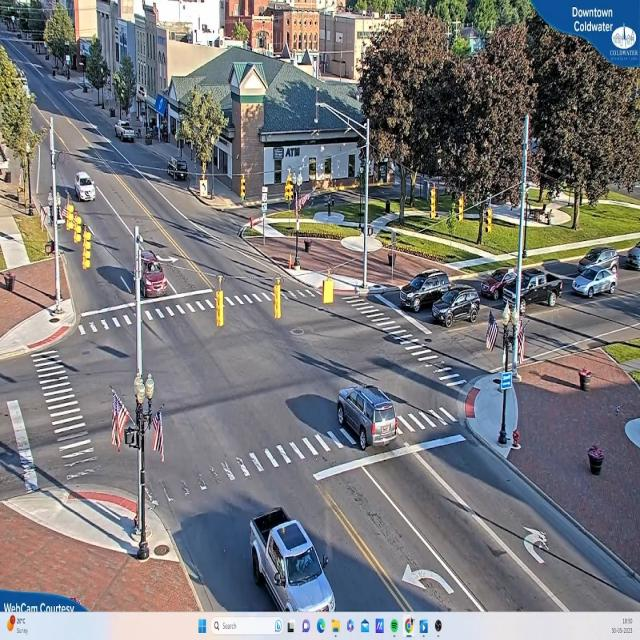car: (250, 512, 336, 612), (337, 388, 401, 452), (492, 270, 563, 308), (400, 272, 454, 313), (132, 242, 169, 295), (432, 290, 479, 327), (573, 268, 618, 298), (76, 174, 97, 203), (118, 121, 138, 143)
